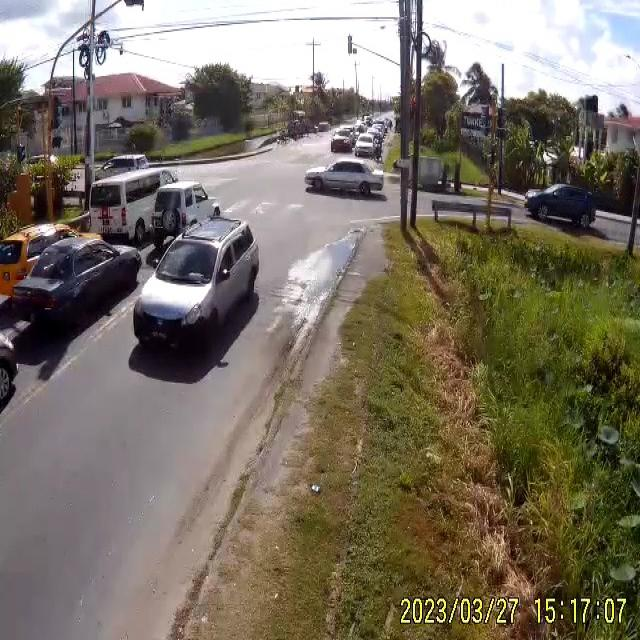car: (133, 221, 262, 359), (2, 234, 142, 342), (90, 168, 175, 240), (0, 222, 81, 296), (304, 159, 382, 199), (525, 186, 594, 228), (100, 154, 148, 176), (356, 134, 378, 157), (331, 135, 353, 156)
